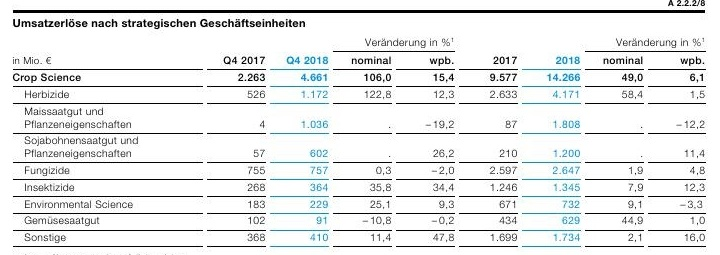table: (0, 0, 720, 255)
